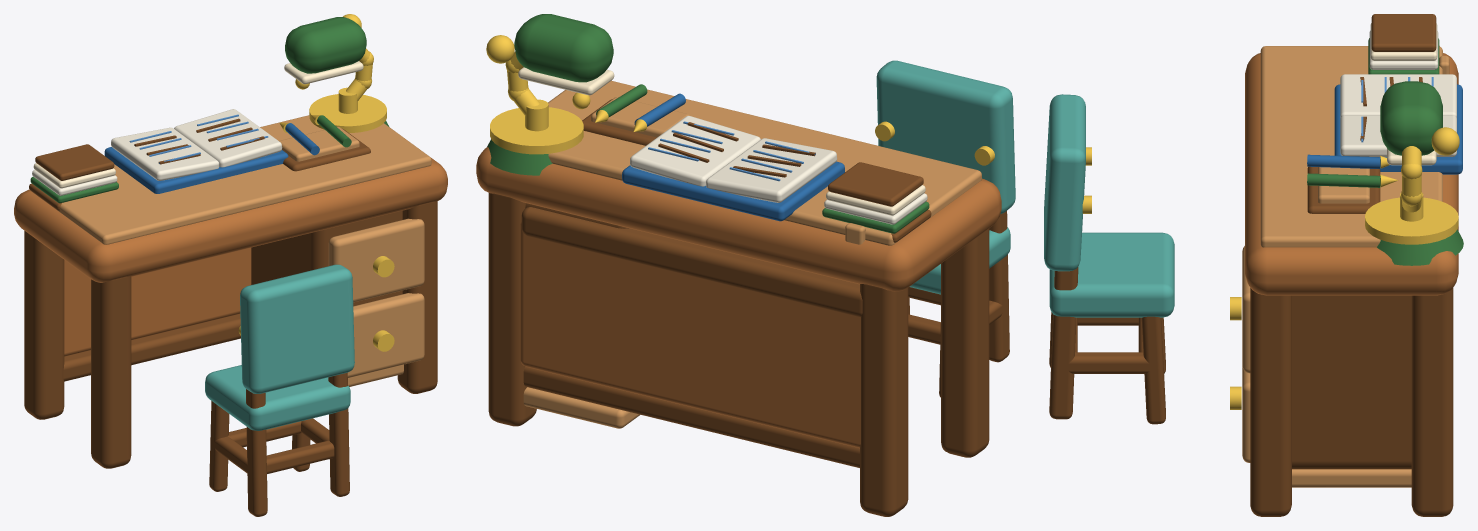
The model's file is record-desk.glb.
3 views of the same model, side by side, from view 1: azimuth 30°, elevation 25°; view 2: azimuth 150°, elevation 25°; view 3: azimuth 270°, elevation 25° (orthographic). The views are drawn at different scales.
Visible parts, largest first — view 1: desk-body-surface-0, desk-body-surface-2, chair-cushions-surface-2, desk-body-surface-14, desk-body-surface-6, desk-body-surface-4, drawer-unit-surface-2, chair-cushions-surface-0, drawer-unit-surface-4, drawer-unit-surface-0, desk-body-surface-10, desk-lamp-surface-18 (+20 smaller); view 2: desk-body-surface-14, desk-body-surface-0, desk-body-surface-2, chair-cushions-surface-2, desk-body-surface-12, desk-body-surface-4, desk-body-surface-6, desk-body-surface-8, desk-body-surface-16, desk-lamp-surface-18, ledger-surface-4, ledger-surface-2 (+18 smaller); view 3: drawer-unit-surface-0, desk-body-surface-2, desk-body-surface-0, desk-body-surface-8, desk-body-surface-10, chair-cushions-surface-0, chair-cushions-surface-2, desk-lamp-surface-18, desk-lamp-surface-2, chair-frame-surface-4, ledger-surface-2, paper-stack-surface-8 (+17 smaller).
Part boxes in pixels (x1,y1,x2,y2): desk-body-surface-0: [14, 157, 447, 282]; desk-body-surface-2: [30, 115, 431, 244]; chair-cushions-surface-2: [240, 264, 354, 393]; desk-body-surface-14: [64, 247, 251, 356]; desk-body-surface-6: [91, 276, 131, 468]; desk-body-surface-4: [24, 231, 64, 419]; drawer-unit-surface-2: [328, 218, 424, 302]; chair-cushions-surface-0: [205, 365, 350, 430]; drawer-unit-surface-4: [347, 293, 424, 377]; drawer-unit-surface-0: [251, 210, 402, 306]; desk-body-surface-10: [397, 201, 437, 393]; desk-lamp-surface-18: [285, 17, 366, 73]; desk-body-surface-14: [520, 222, 860, 448]; desk-body-surface-0: [476, 147, 1001, 291]; desk-body-surface-2: [548, 80, 981, 245]; chair-cushions-surface-2: [876, 60, 1015, 213]; desk-body-surface-12: [521, 207, 862, 317]; desk-body-surface-4: [860, 284, 908, 516]; desk-body-surface-6: [941, 228, 989, 457]; desk-body-surface-8: [488, 193, 536, 426]; desk-body-surface-16: [523, 366, 859, 467]; desk-lamp-surface-18: [514, 14, 613, 82]; ledger-surface-4: [630, 115, 760, 186]; ledger-surface-2: [706, 138, 837, 202]; drawer-unit-surface-0: [1292, 295, 1411, 469]; desk-body-surface-2: [1260, 46, 1442, 247]; desk-body-surface-0: [1245, 53, 1458, 295]; desk-body-surface-8: [1411, 288, 1453, 516]; desk-body-surface-10: [1250, 288, 1291, 516]; chair-cushions-surface-0: [1049, 232, 1174, 317]; chair-cushions-surface-2: [1044, 94, 1085, 271]; desk-lamp-surface-18: [1380, 81, 1442, 155]; desk-lamp-surface-2: [1365, 197, 1458, 244]; chair-frame-surface-4: [1049, 267, 1078, 419]; ledger-surface-2: [1340, 74, 1456, 118]; paper-stack-surface-8: [1371, 14, 1436, 51].
Size of the model in its own units: 1.75 by 1.56 by 1.47.
